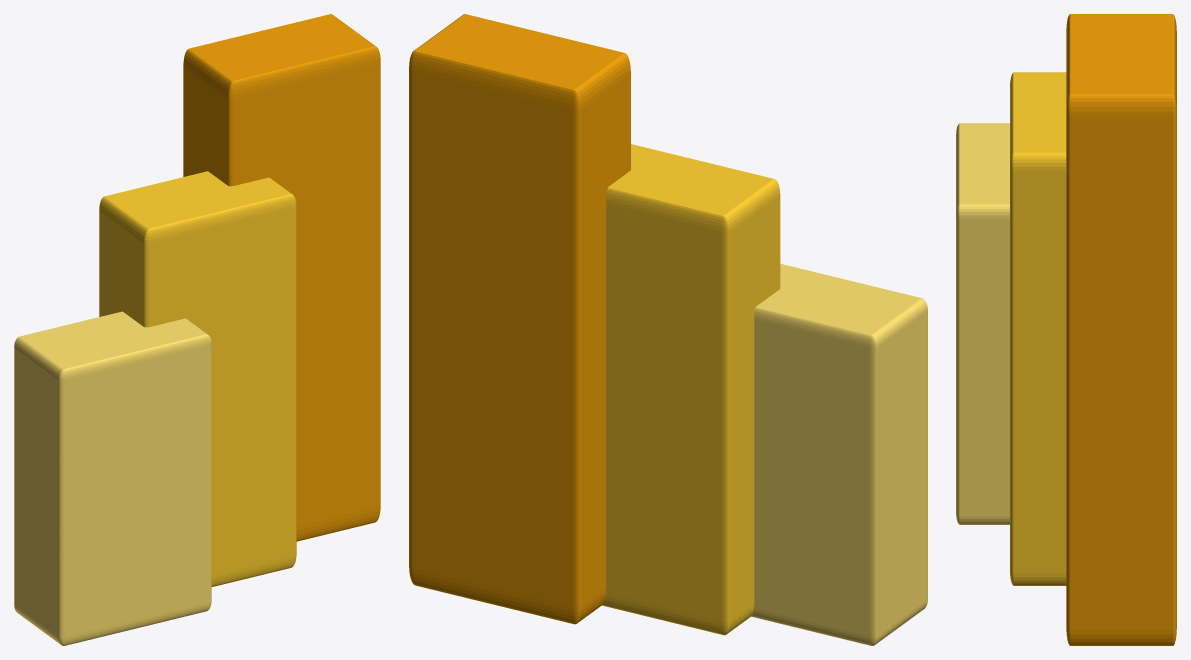
The model's file is powerbi.glb.
The picture shows the model from 3 angles, left to right: view 1: azimuth 30°, elevation 25°; view 2: azimuth 150°, elevation 25°; view 3: azimuth 270°, elevation 25°; orthographic projection. The views are drawn at different scales.
Visible parts, largest first — view 1: Cube.002_2, Cube_0, Cube.001_1; view 2: Cube_0, Cube.001_1, Cube.002_2; view 3: Cube_0, Cube.001_1, Cube.002_2.
Boxes of the visible parts, x1,y1,x2,y2 form: Cube.002_2: (14,311,211,645); Cube_0: (183,14,380,541); Cube.001_1: (99,171,296,586); Cube_0: (409,14,630,624); Cube.001_1: (602,144,780,635); Cube.002_2: (751,263,927,645); Cube_0: (1066,14,1176,645); Cube.001_1: (1010,72,1066,585); Cube.002_2: (956,123,1009,524).
Size of the model in its own units: 4.09 by 5.05 by 1.83.
